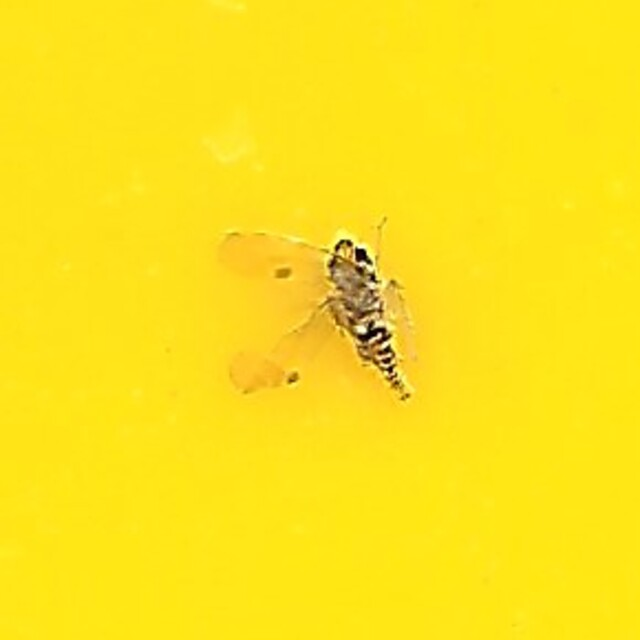Hemiptera: (221, 226, 419, 414)
